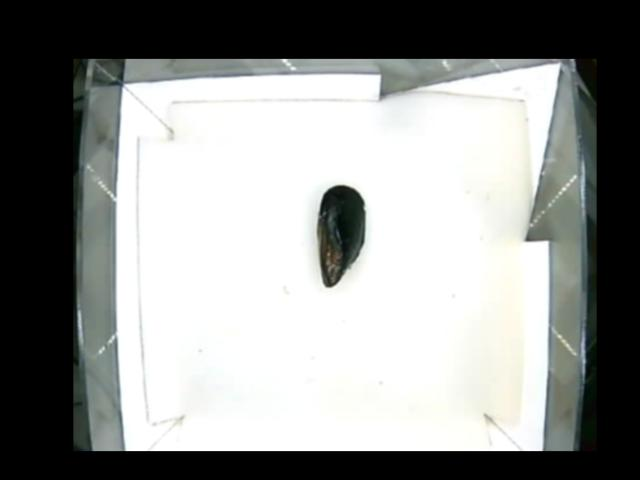Shell: (318, 185, 366, 288)
